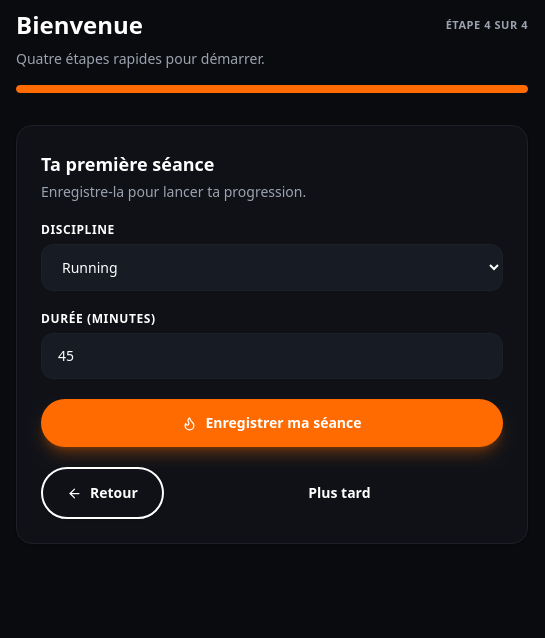
Test case: Bienvenue — étape 4 : première séance › une durée invalide est refusée AVANT tout appel réseau
Replace the text in the number field labelled "Durée (minutes)" with "3" at (272, 356), box [41,333,503,379]
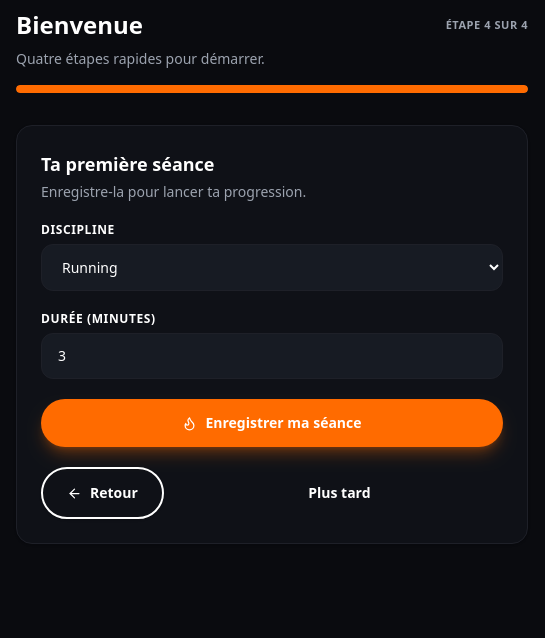
Click the button "Enregistrer ma séance" at (272, 423), box [41,399,503,447]
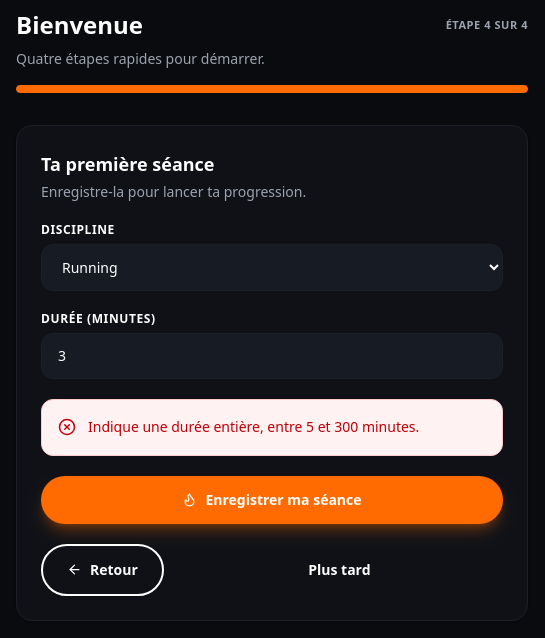
Result: the message shows "durée entière" at [88,417,419,436]
